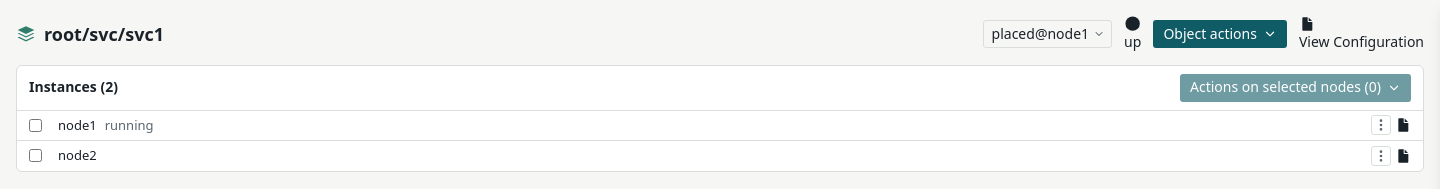
Test: ObjectDetail Component › batch actions button counts the selected nodes
Expected: the button "Actions on selected nodes (0)" is disabled, [1180,74,1411,102]
Click the checkbox named "select node node2".
click(36, 156)  # box [29,149,42,162]
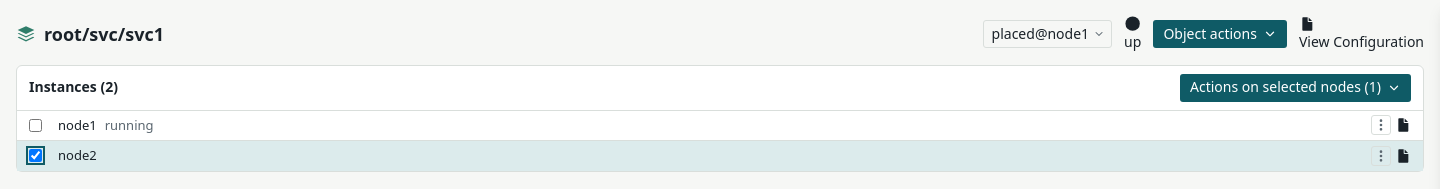
Expected: the button "Actions on selected nodes (1)" is enabled, [1180,74,1411,102]
